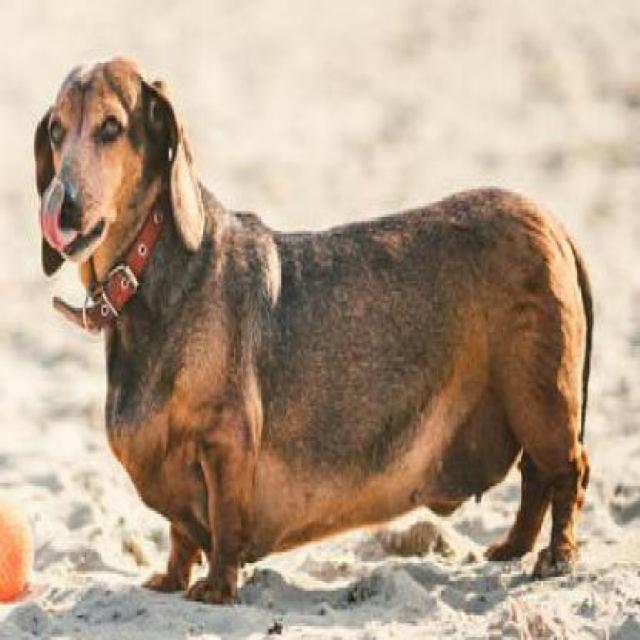Dog: (32, 55, 598, 611)
